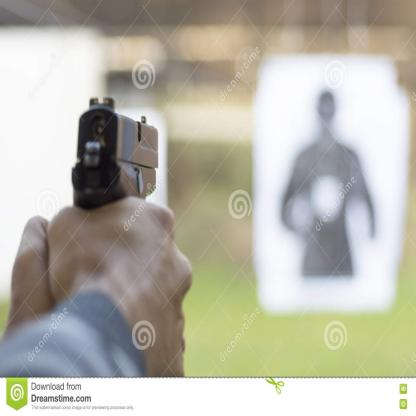handgun: (71, 95, 159, 211)
